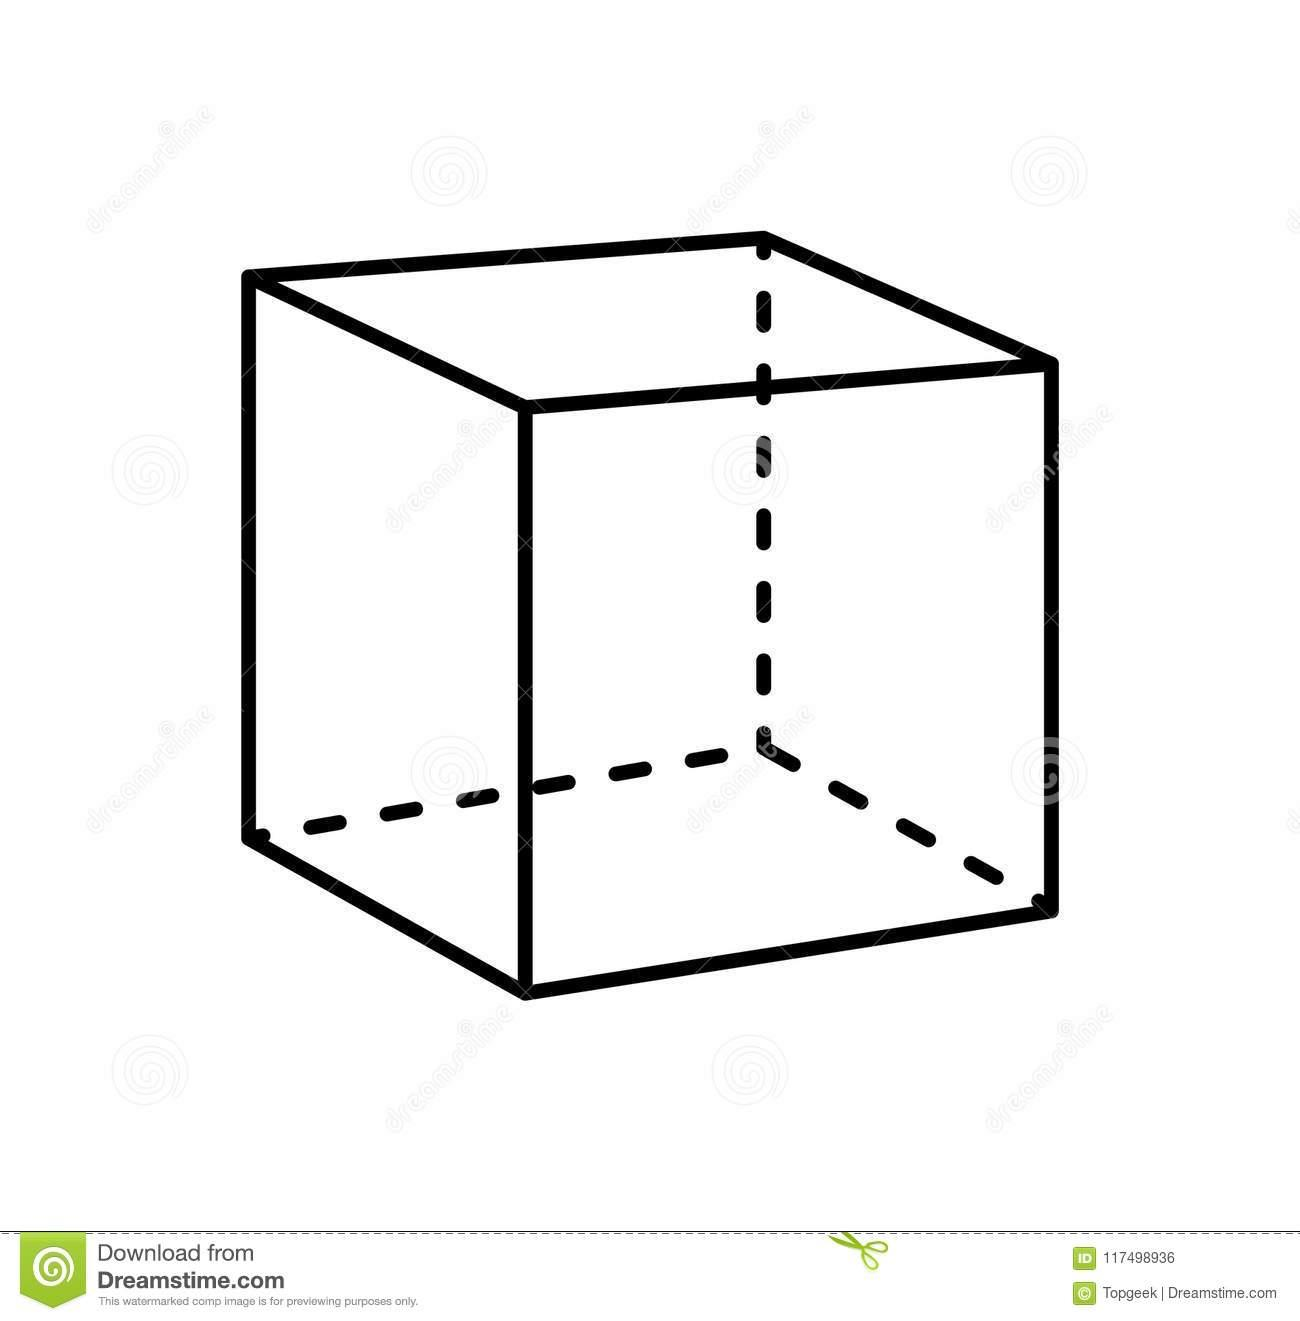cubos: (217, 204, 1104, 1027)
